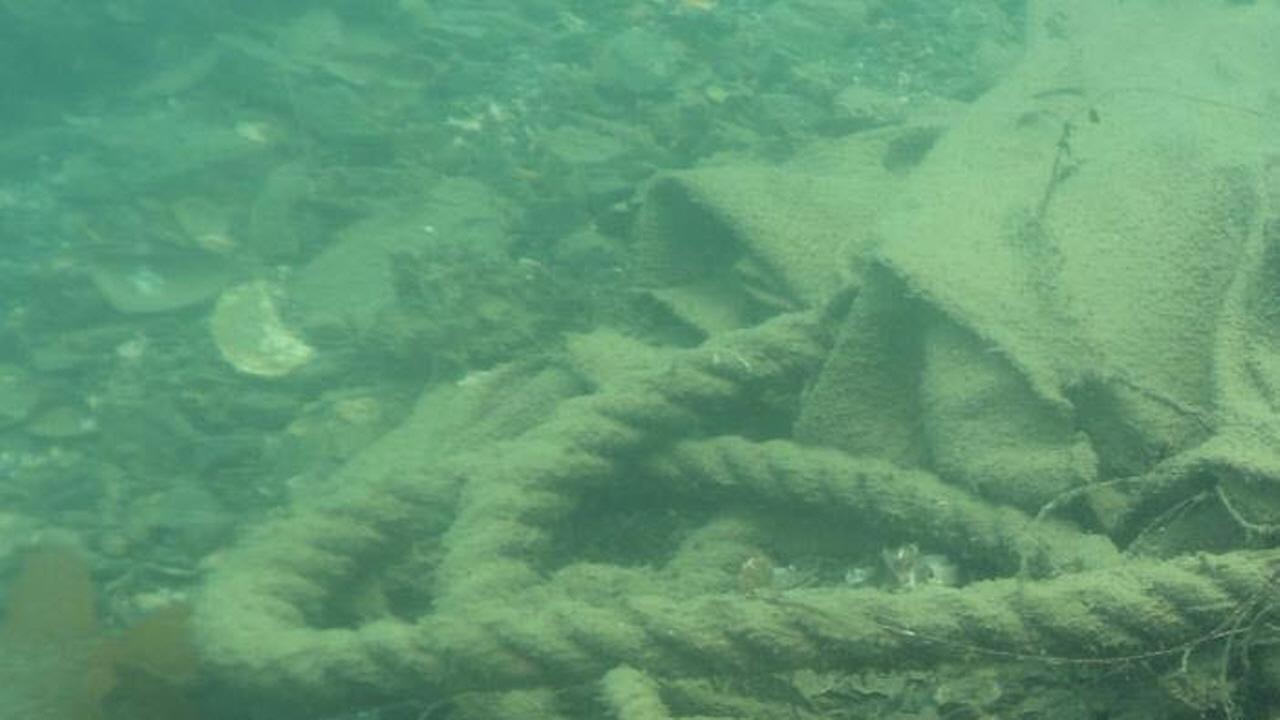bundle of ropes: (188, 309, 1280, 720)
